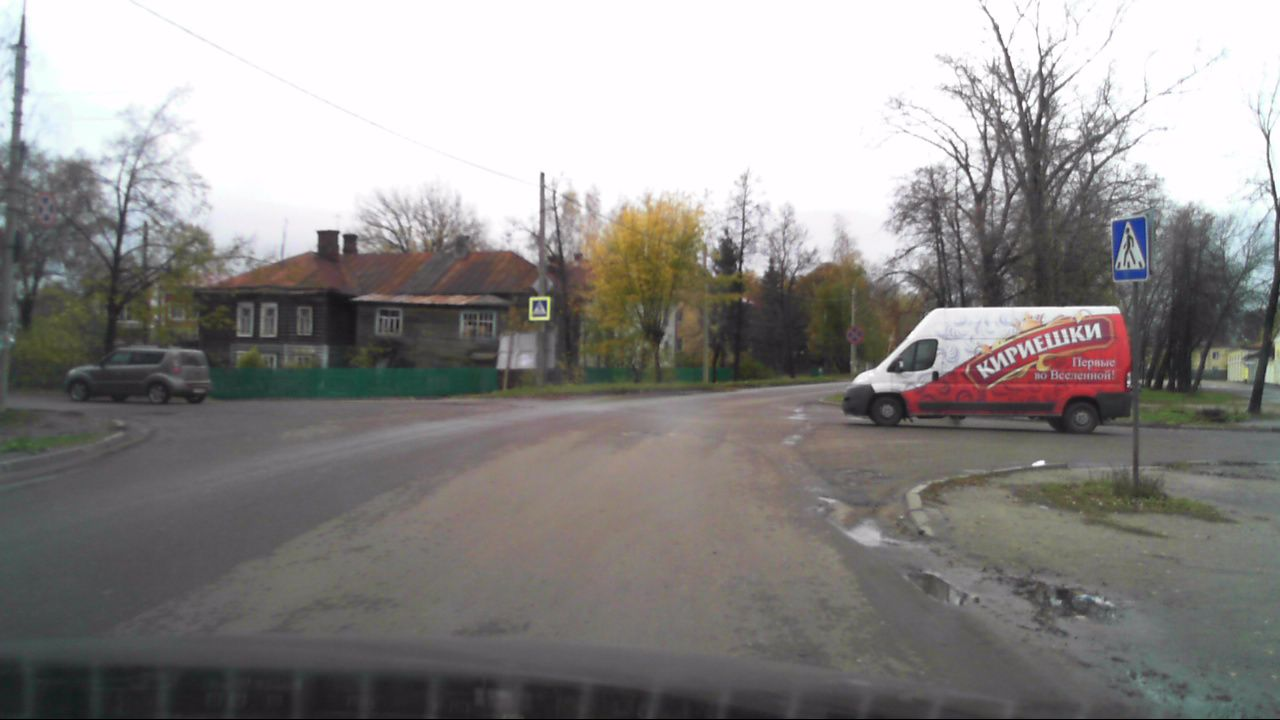No Parking: (845, 326, 863, 345)
